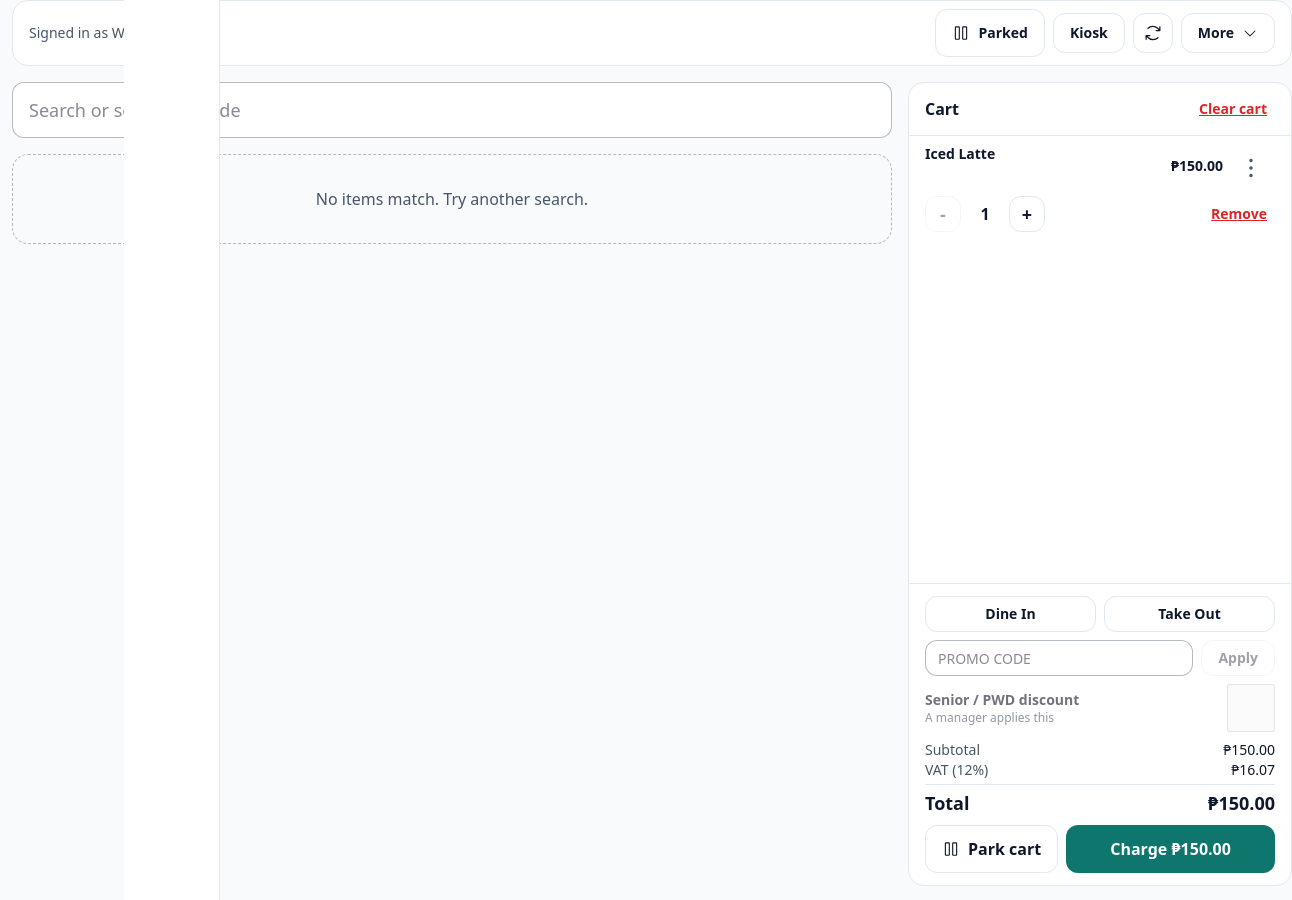
Test: role rules › hides discount and override from any other role
Click the button named "Actions for Iced Latte": (1251, 168) x1=1227 y1=144 x2=1275 y2=192
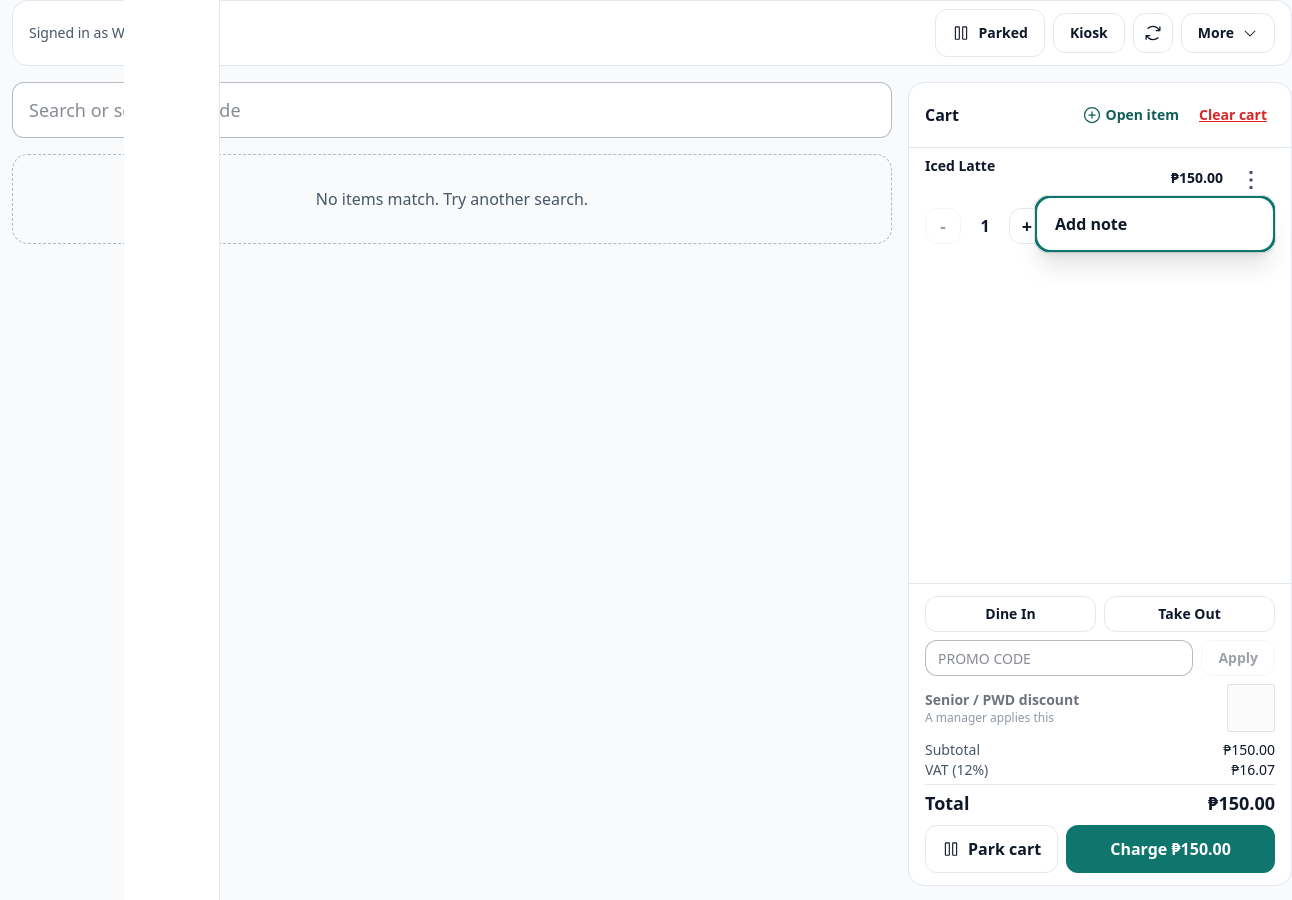
Now the menu item "Add note" is shown, box x1=1039 y1=200 x2=1271 y2=248
